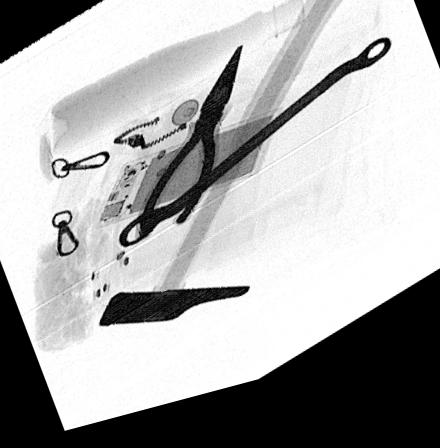Hammer: (99, 0, 350, 331)
Pliers: (136, 56, 243, 249)
Powerbank: (92, 122, 281, 235)
Wrench: (116, 57, 394, 253)
